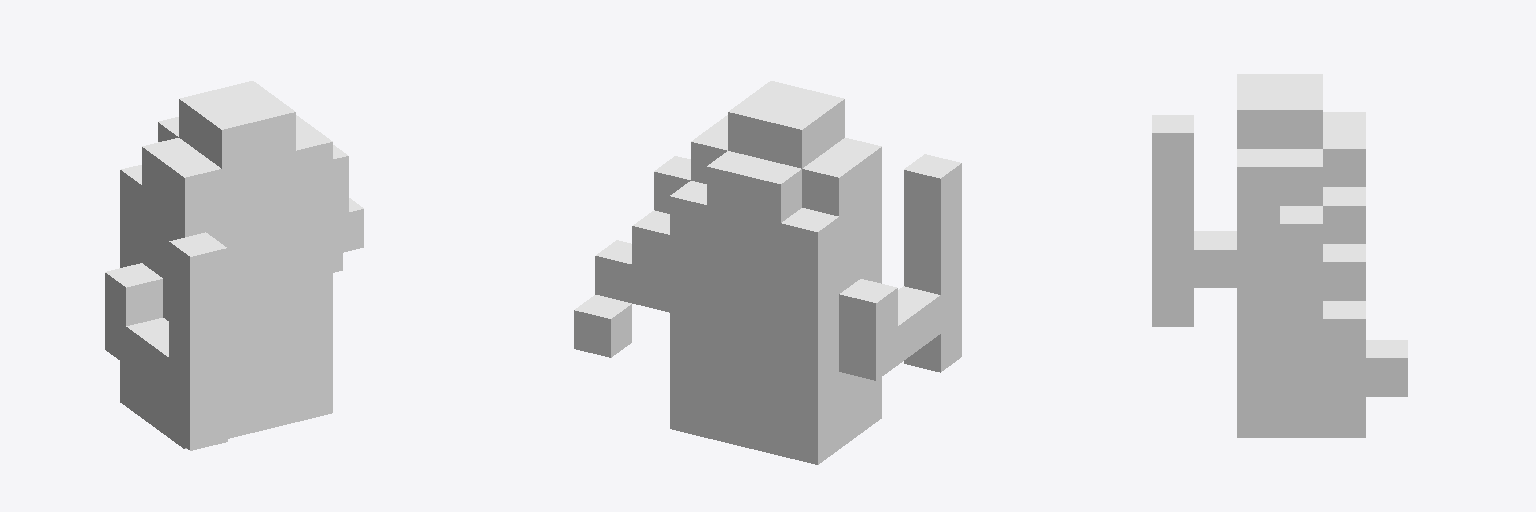
The model's file is player-body.obj.
3 renders of one model, left to right at view 1: azimuth 30°, elevation 25°; view 2: azimuth 150°, elevation 25°; view 3: azimuth 270°, elevation 25°, orthographic.
Parts seen in each view (by area): view 1: object 1; view 2: object 1; view 3: object 1.
Boxes of the visible parts, x1,y1,x2,y2 form: object 1: [105, 81, 363, 450]; object 1: [574, 81, 961, 464]; object 1: [1152, 74, 1407, 437].
Bounding box in the file's own units: 1.4 × 1.6 × 1.2.